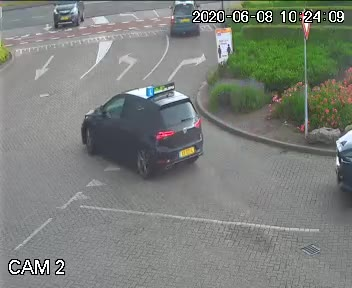car: (70, 73, 210, 188), (157, 0, 206, 45), (45, 0, 87, 34)
